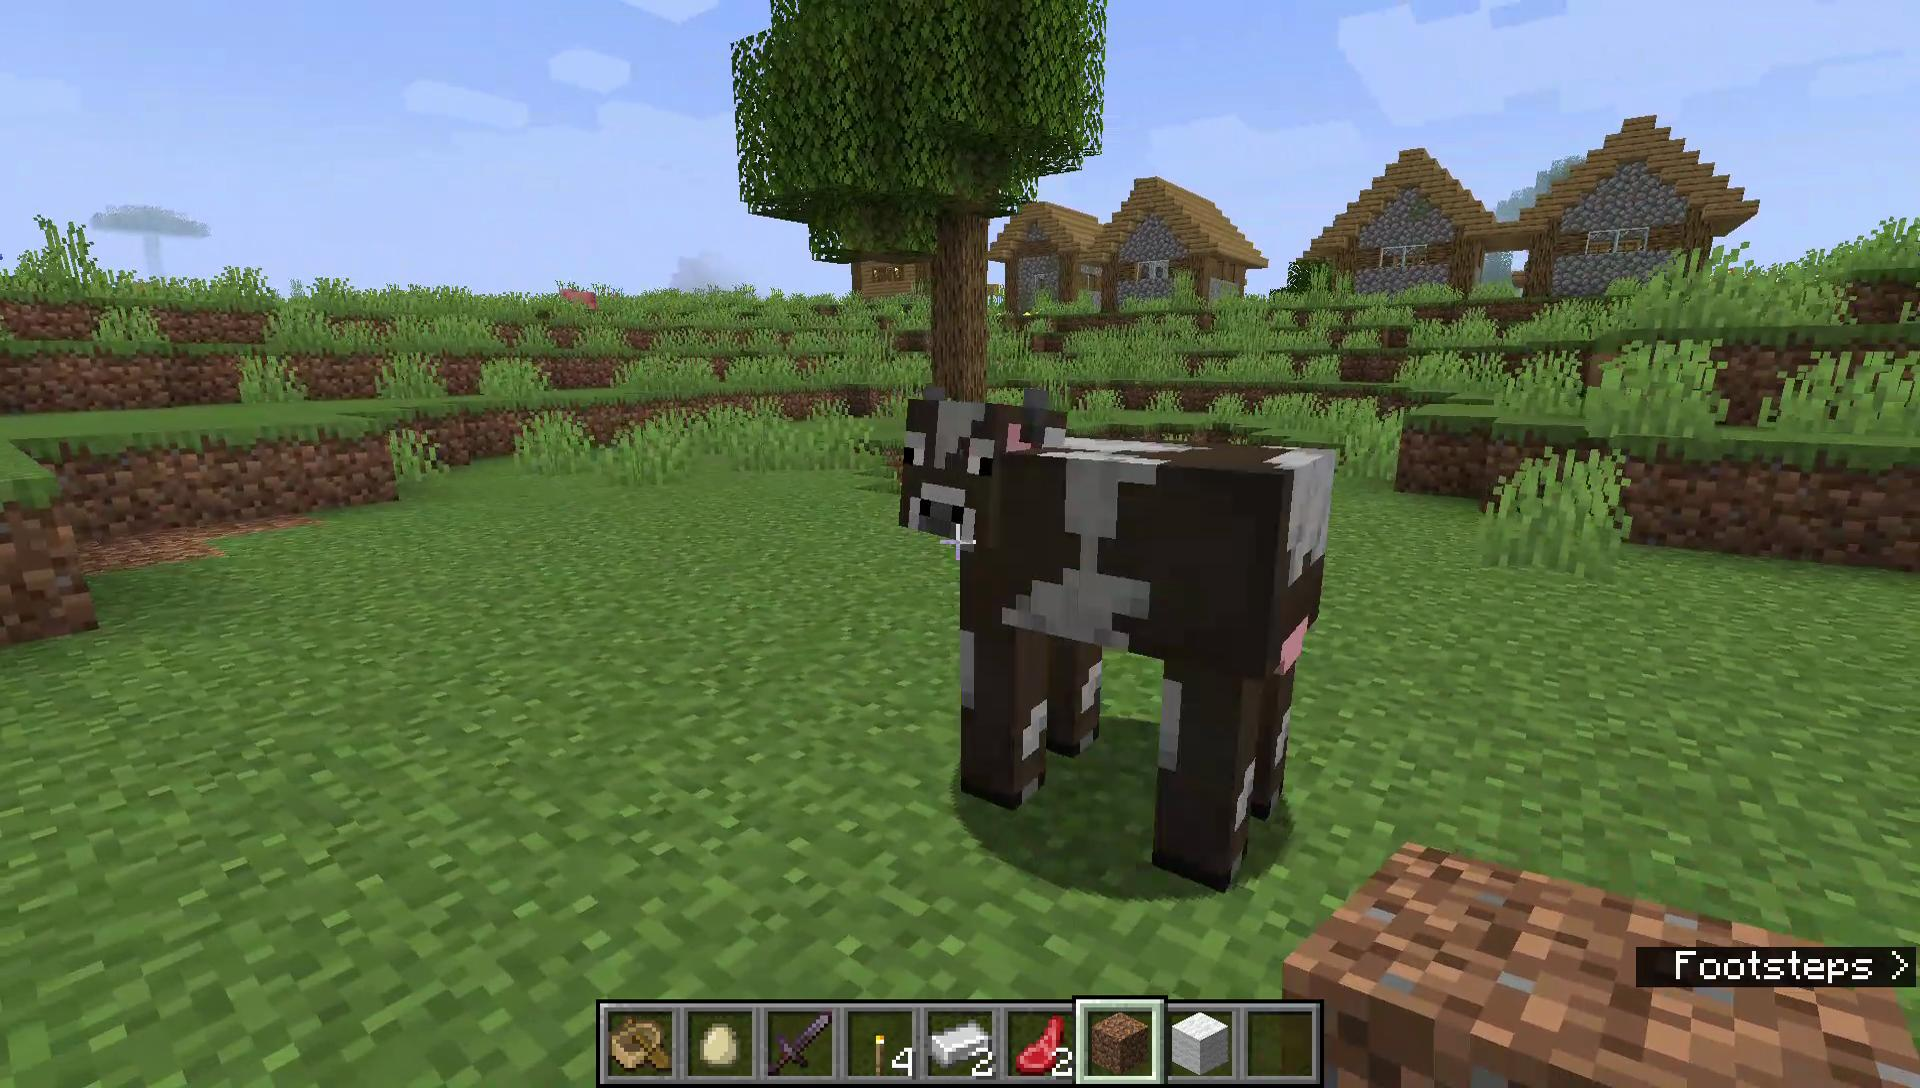cow: (885, 367, 1353, 902)
pig: (560, 280, 604, 322)
